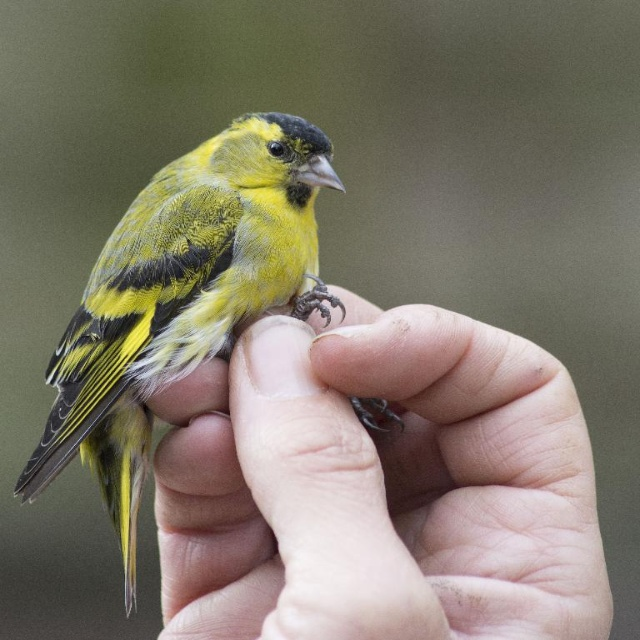Canary: (13, 110, 406, 615)
